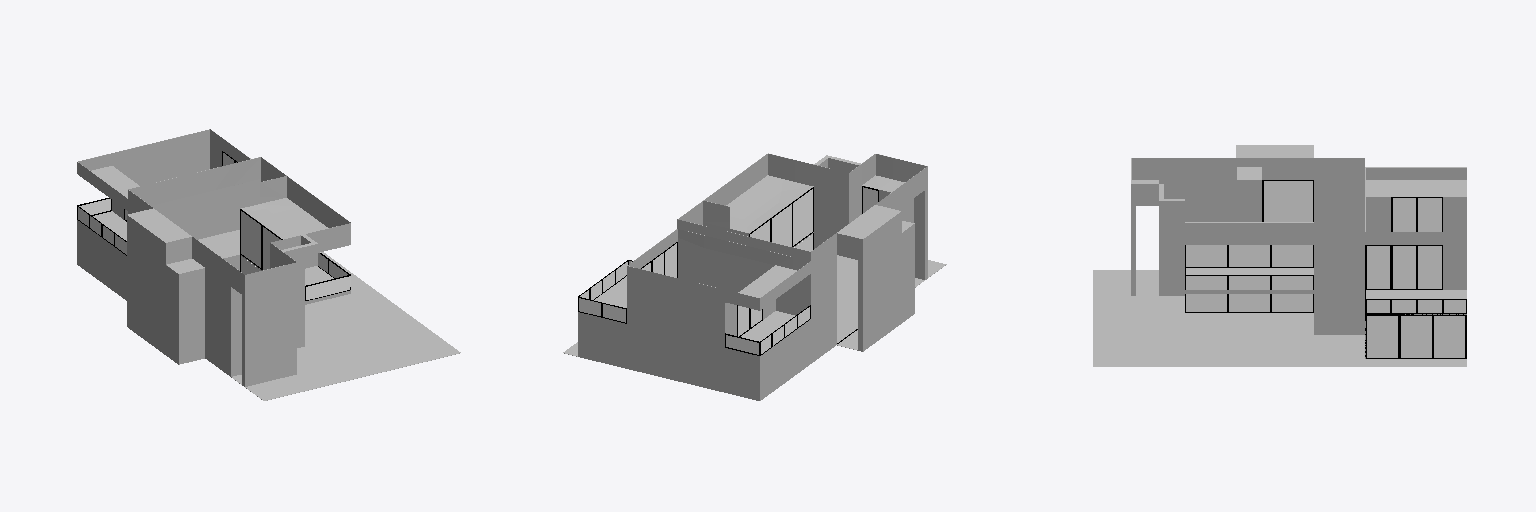
File: modern_house_open_1.obj
3 views of the same model, side by side, from view 1: azimuth 30°, elevation 25°; view 2: azimuth 150°, elevation 25°; view 3: azimuth 270°, elevation 25° (orthographic).
Parts seen in each view (by area): view 1: Plane, Plane.030, Plane.036, Plane.073, Plane.004, Plane.001, Plane.069; view 2: Plane, Plane.036, Plane.051, Plane.003, Plane.002; view 3: Plane, Plane.030, Plane.051, Plane.004, Plane.073, Plane.010, Plane.011, Plane.012, Plane.015, Plane.013, Plane.014, Plane.001 (+7 smaller).
Part boxes in pixels (left/top/right/bottom): Plane: left=77, top=129, right=350, bottom=386; Plane.030: left=231, top=252, right=460, bottom=400; Plane.036: left=127, top=215, right=152, bottom=345; Plane.073: left=297, top=347, right=349, bottom=388; Plane.004: left=305, top=253, right=350, bottom=300; Plane.001: left=241, top=211, right=260, bottom=267; Plane.069: left=199, top=230, right=239, bottom=257; Plane: left=578, top=153, right=927, bottom=400; Plane.036: left=858, top=221, right=888, bottom=351; Plane.051: left=837, top=255, right=857, bottom=342; Plane.003: left=793, top=189, right=812, bottom=245; Plane.002: left=772, top=204, right=791, bottom=246; Plane: left=1131, top=145, right=1466, bottom=358; Plane.030: left=1093, top=270, right=1466, bottom=366; Plane.051: left=1264, top=181, right=1312, bottom=221; Plane.004: left=1185, top=253, right=1313, bottom=289; Plane.073: left=1093, top=296, right=1184, bottom=312; Plane.010: left=1367, top=316, right=1397, bottom=357; Plane.011: left=1401, top=316, right=1431, bottom=357; Plane.012: left=1434, top=316, right=1464, bottom=357; Plane.015: left=1418, top=246, right=1441, bottom=288; Plane.013: left=1367, top=246, right=1389, bottom=288; Plane.014: left=1393, top=246, right=1415, bottom=288; Plane.001: left=1272, top=245, right=1312, bottom=266.
Size of the model in its own units: 9.6 by 4.6 by 13.86.